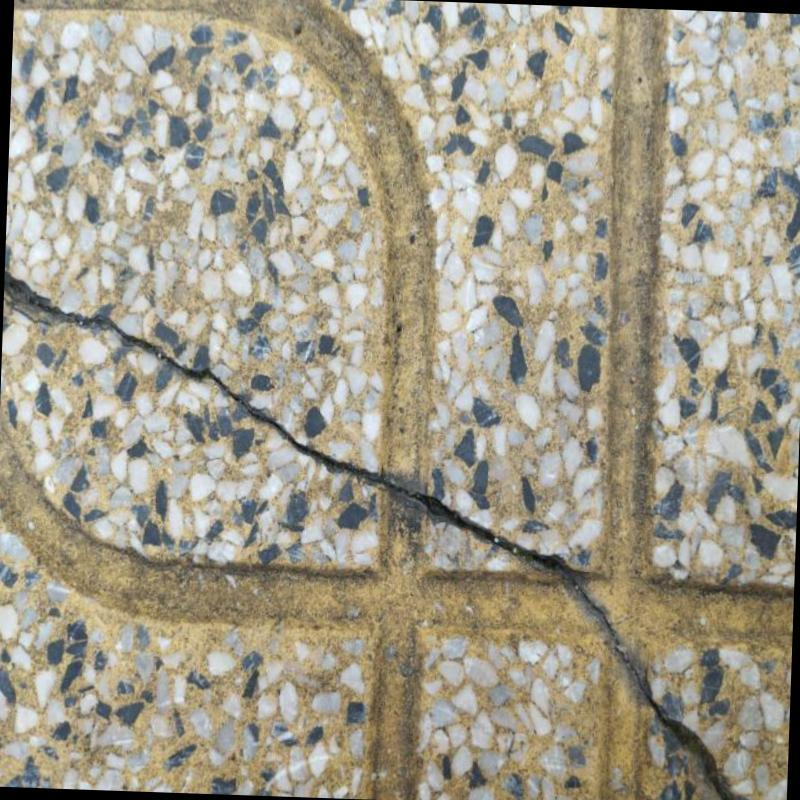pothole: (4, 270, 737, 800)
